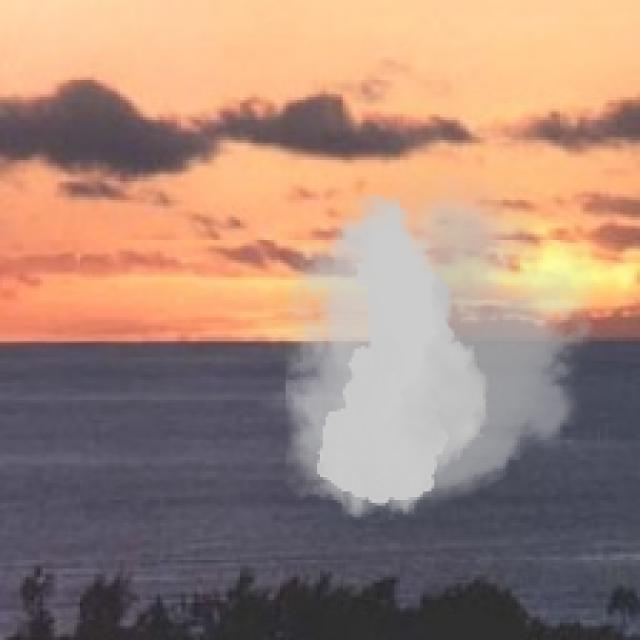Smoke: (257, 172, 614, 528)
